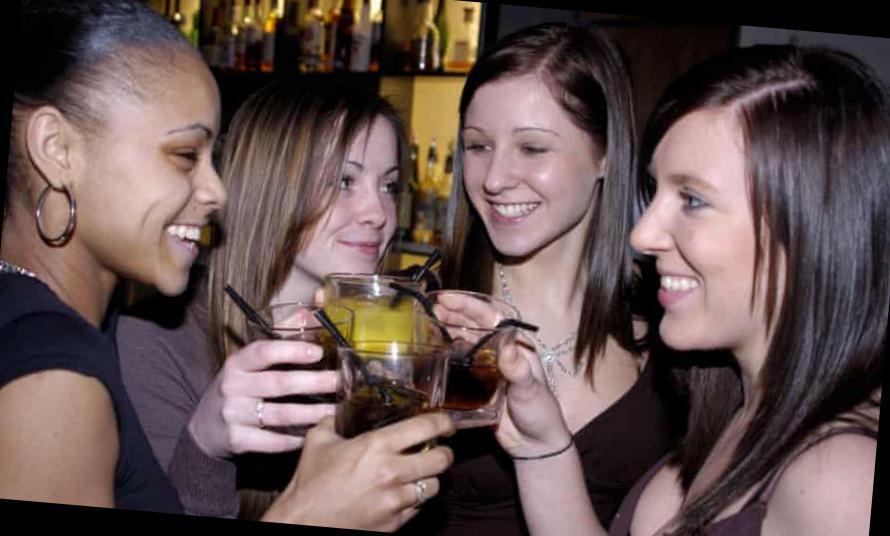Drunk: (93, 49, 231, 305), (640, 108, 770, 362), (463, 80, 573, 258), (300, 101, 405, 285)
